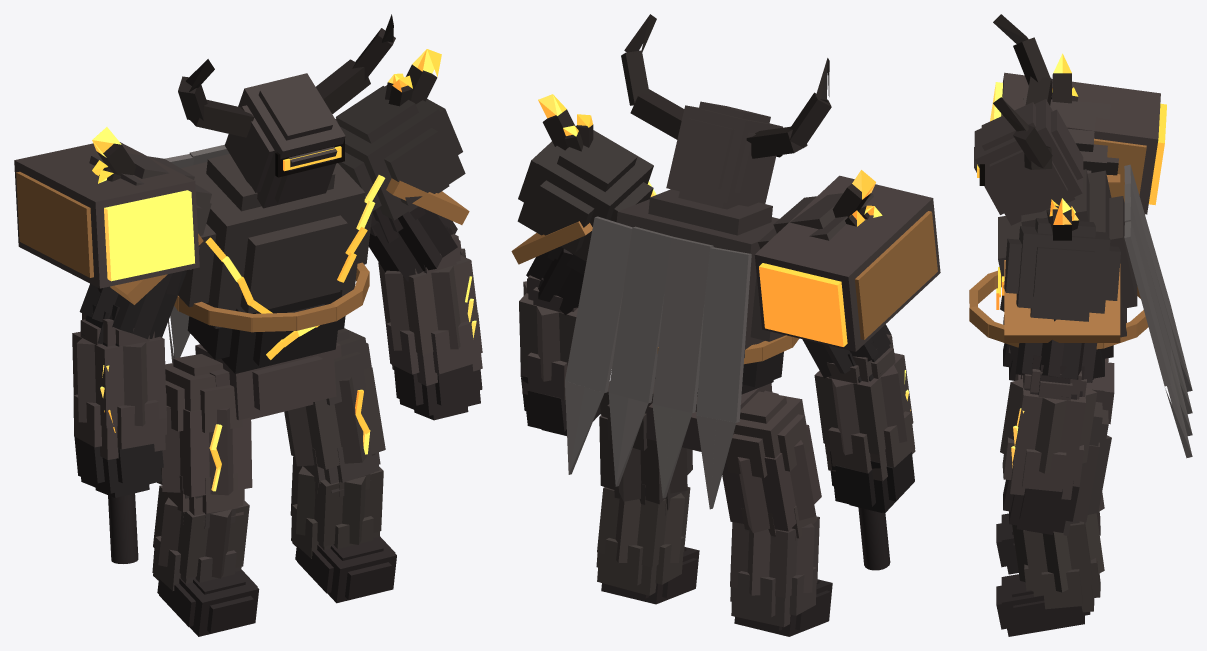
3 renders of one model, left to right at view 1: azimuth 30°, elevation 25°; view 2: azimuth 150°, elevation 25°; view 3: azimuth 270°, elevation 25°, orthographic. The views are drawn at different scales.
Visible parts, largest first — view 1: ForgeChampion; view 2: ForgeChampion; view 3: ForgeChampion.
Part boxes in pixels (left/top/right/bottom): ForgeChampion: left=14, top=14, right=482, bottom=636; ForgeChampion: left=511, top=14, right=940, bottom=636; ForgeChampion: left=969, top=14, right=1192, bottom=636.
Size of the model in its own units: 1.15 by 1.58 by 0.5934.
